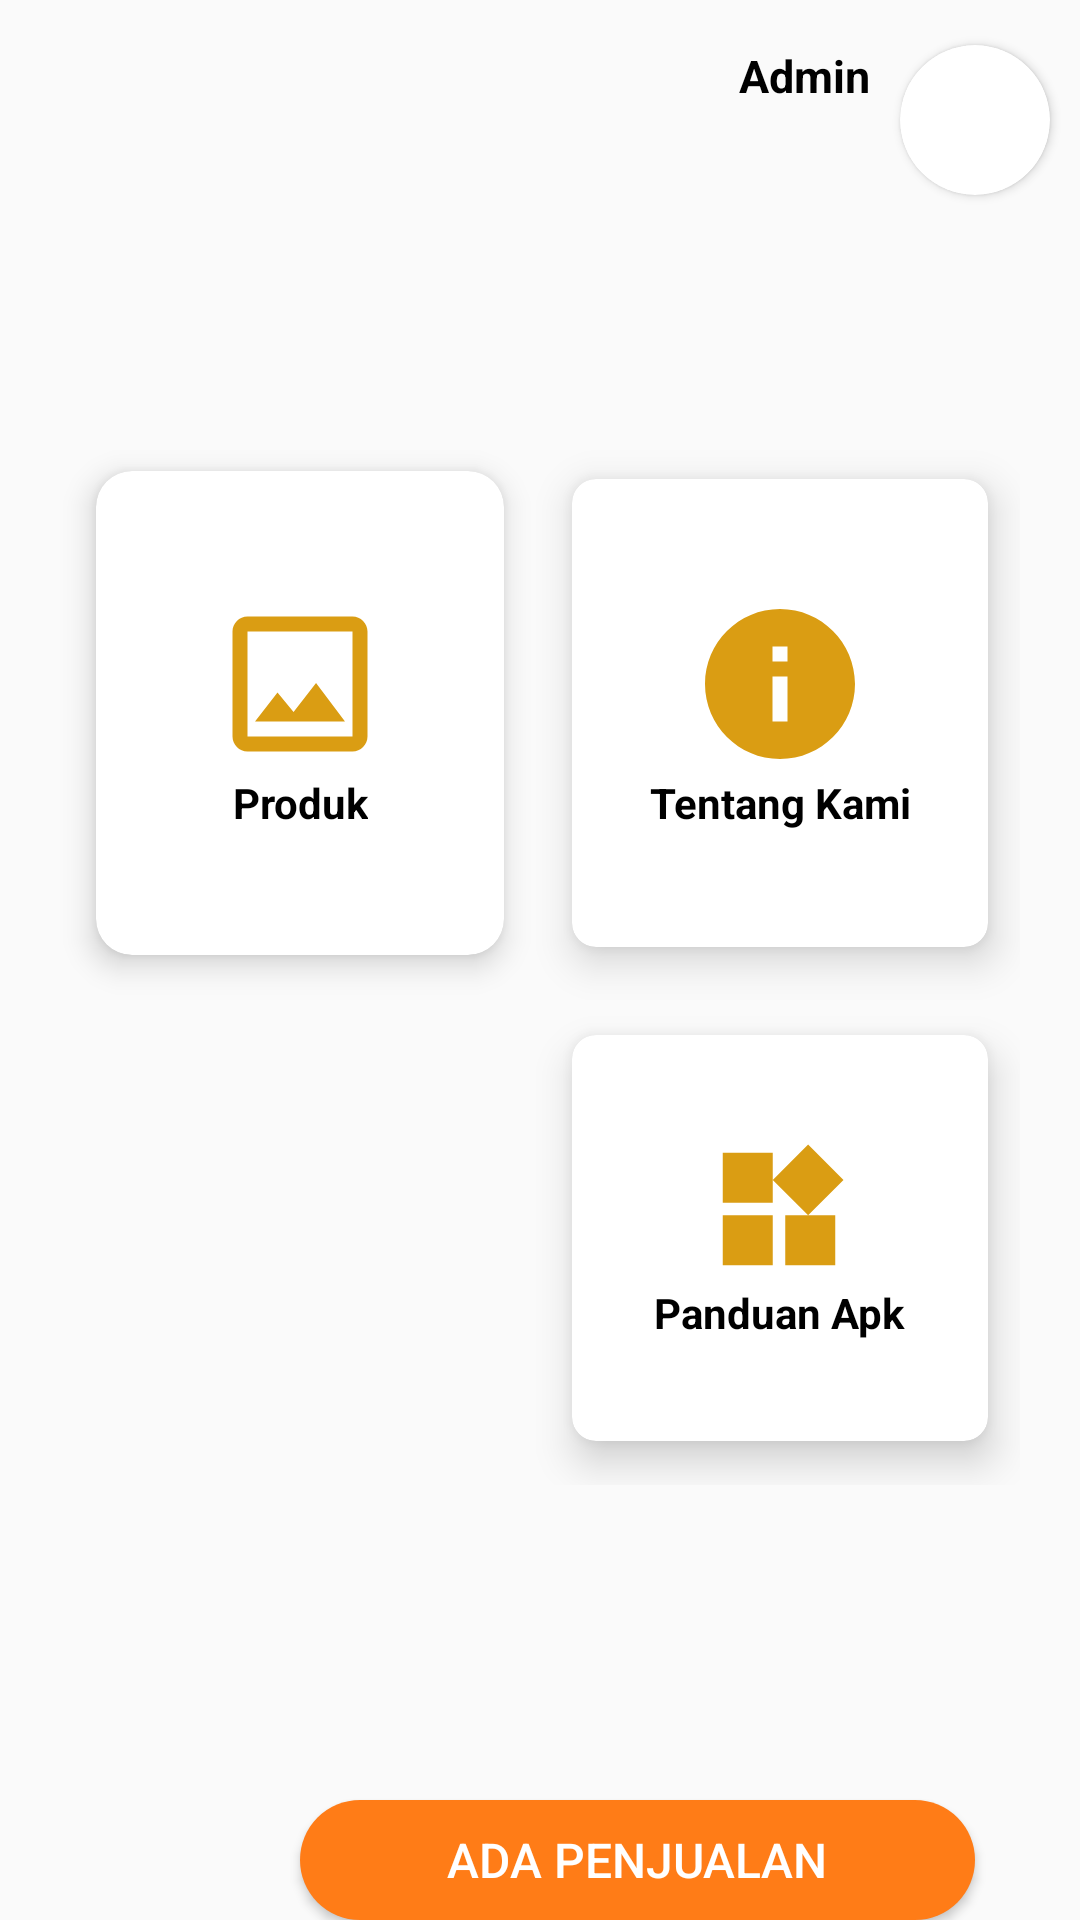

Named icons in this screenshot (1080*1920) and their bounding boxes, (x1, y1, x2, y2):
info: (705, 609, 855, 759)
photo: (232, 616, 368, 752)
widgets: (722, 1144, 844, 1266)
